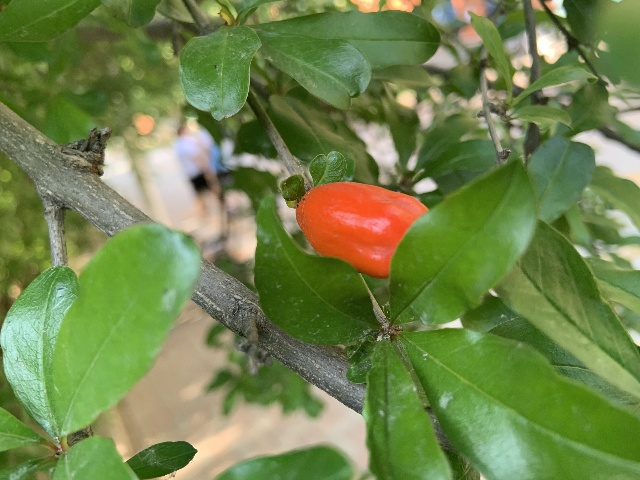bud: (296, 181, 428, 279)
